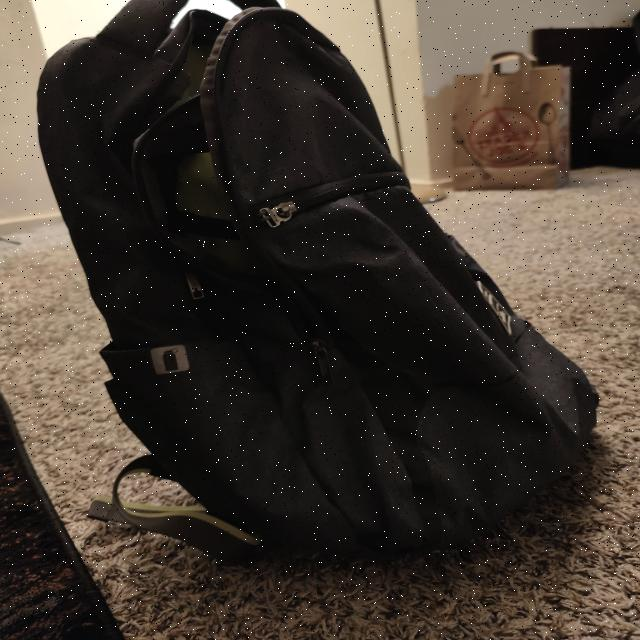bag: (59, 0, 606, 538)
